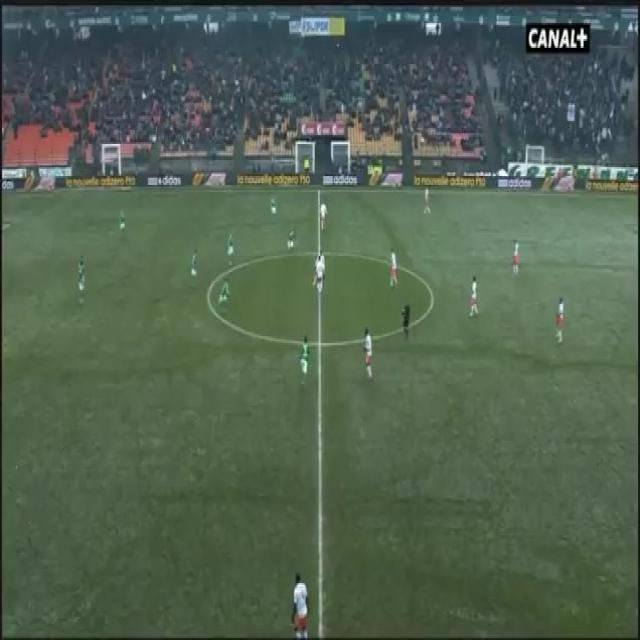player: (61, 247, 96, 321), (549, 273, 571, 379), (461, 256, 487, 339), (285, 563, 313, 640), (180, 231, 204, 296), (297, 318, 316, 398), (356, 324, 377, 396), (311, 255, 329, 308), (215, 271, 234, 320), (509, 239, 527, 285), (224, 215, 238, 271), (385, 237, 399, 292), (116, 196, 131, 247), (270, 181, 281, 232), (316, 205, 329, 239), (423, 182, 432, 224), (287, 223, 296, 256), (382, 170, 387, 189)
referee: (396, 289, 419, 362)
